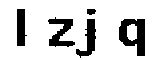j: (75, 6, 97, 60)
l: (12, 4, 31, 54)
q: (113, 14, 147, 60)
z: (45, 17, 76, 49)
